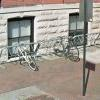Bicycle: (8, 36, 42, 74), (54, 31, 79, 65)
